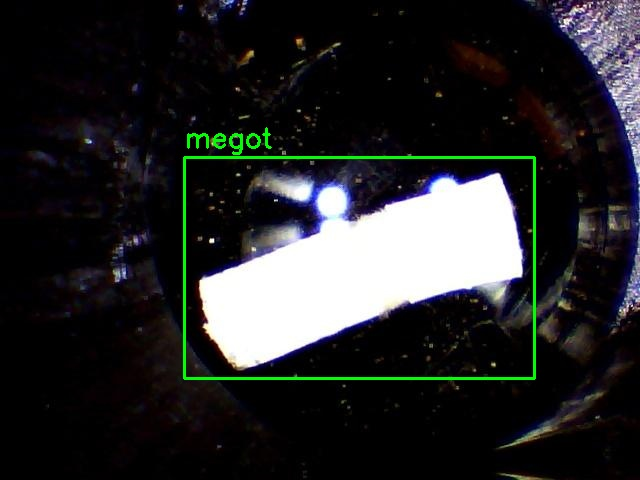megot: (184, 157, 534, 378)
